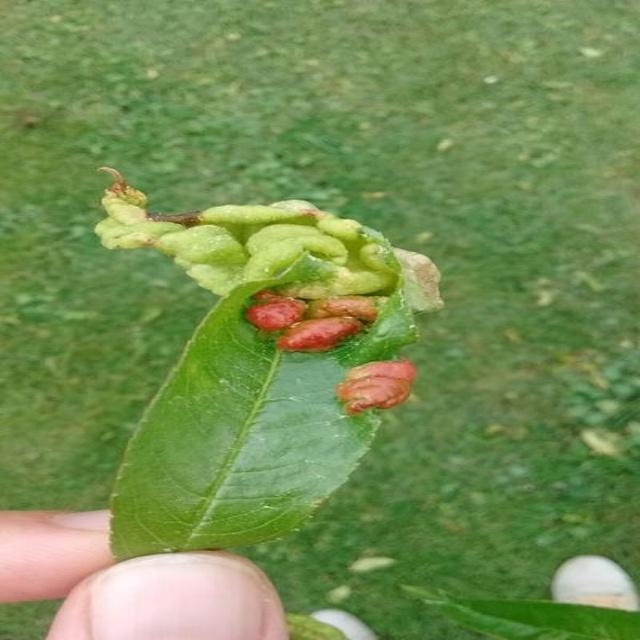leaf_curl: (86, 109, 496, 419)
